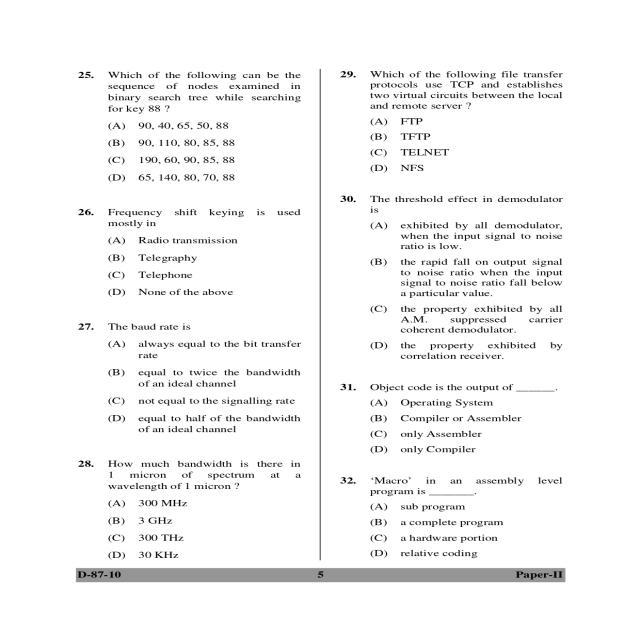Answer_Block: (323, 218, 571, 366), (72, 337, 316, 442), (72, 116, 316, 188), (72, 232, 316, 304), (72, 490, 316, 560), (323, 112, 571, 180), (324, 395, 570, 463), (323, 498, 571, 560)
Question_Answer_Block: (323, 192, 571, 366), (72, 314, 316, 442), (72, 64, 316, 188), (323, 64, 571, 180), (72, 202, 316, 304), (72, 458, 316, 560), (323, 472, 571, 560), (324, 379, 570, 463)
Question_Block: (72, 63, 314, 116), (322, 65, 572, 112), (72, 459, 316, 492), (324, 472, 572, 499), (71, 204, 315, 231), (324, 191, 568, 217), (71, 316, 314, 336), (326, 378, 568, 396)
Question_Paper_Area: (324, 64, 572, 561), (72, 64, 316, 561)
